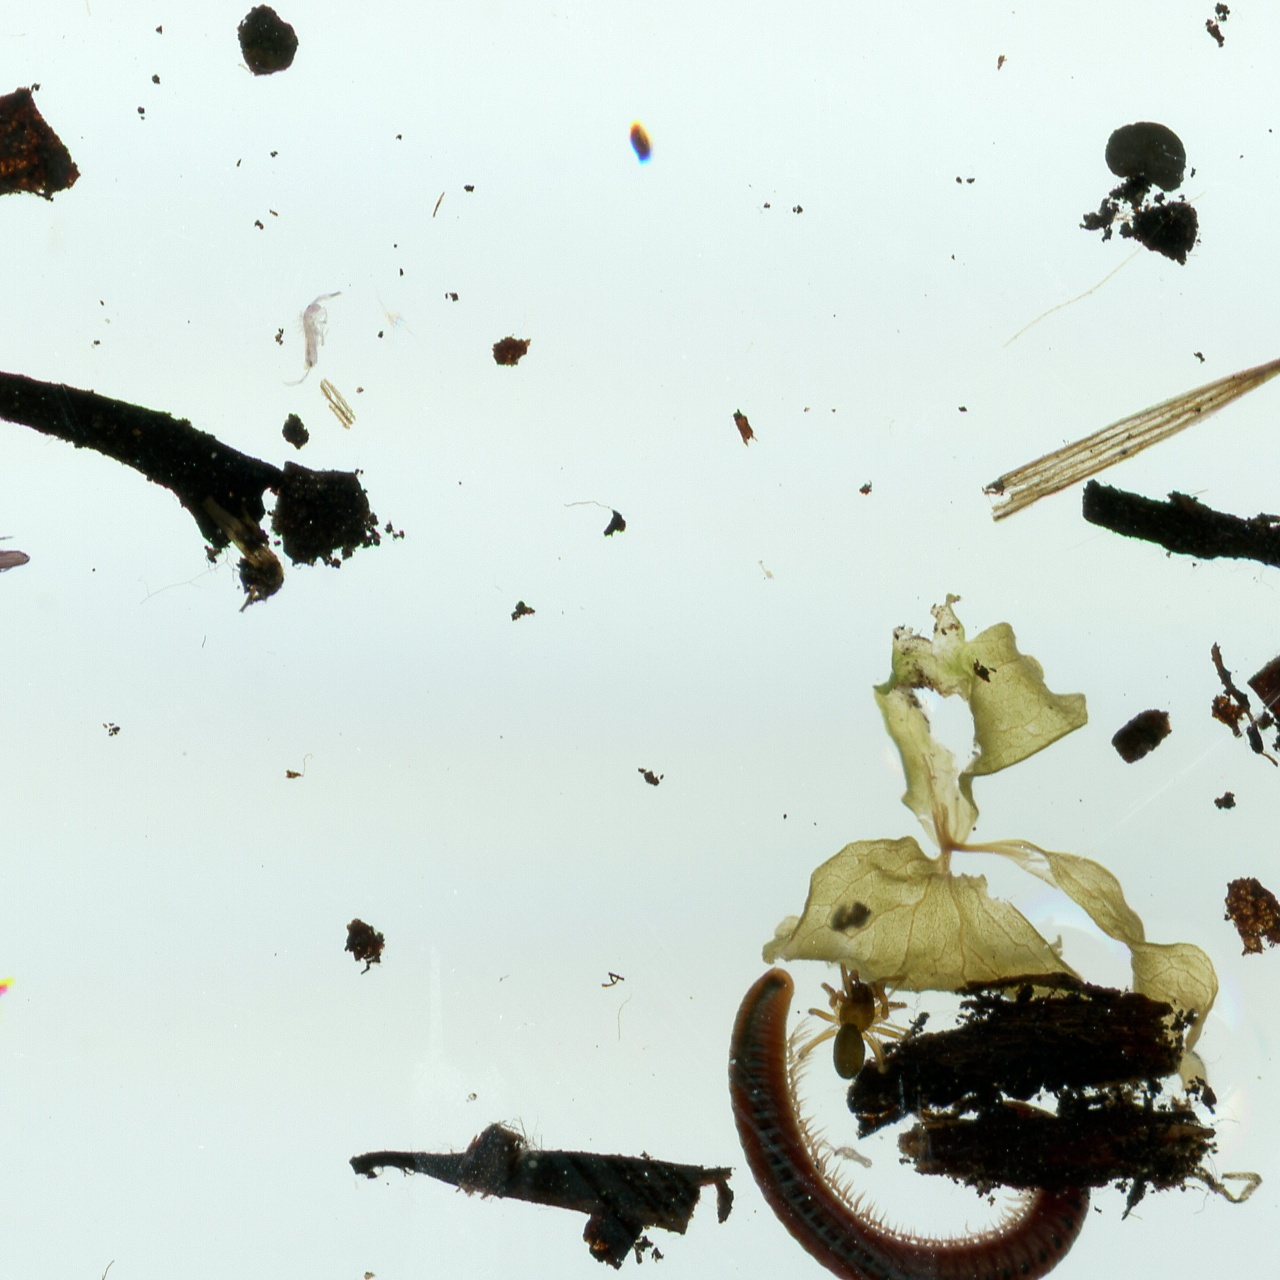arthropod: (726, 970, 1094, 1280), (796, 951, 916, 1077), (279, 287, 341, 387), (0, 536, 29, 593), (0, 982, 11, 1047)
